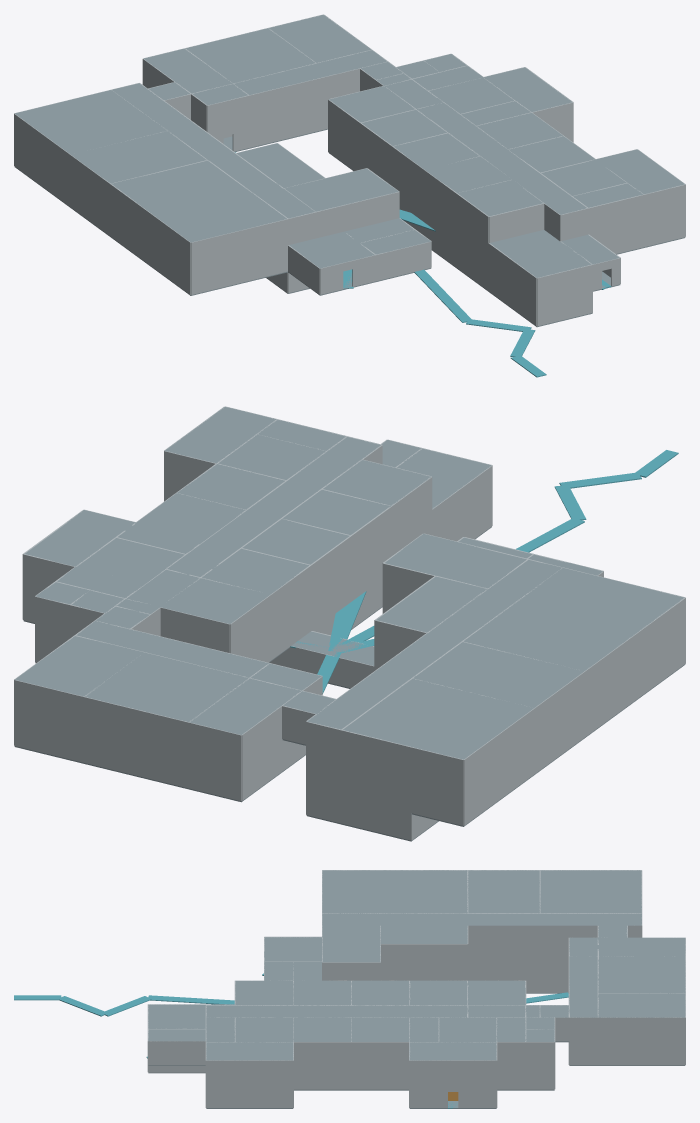
Rendered from furnished.glb.
3 views of the same model, one above another, from view 1: azimuth 30°, elevation 25°; view 2: azimuth 150°, elevation 25°; view 3: azimuth 270°, elevation 25° (orthographic). The views are drawn at different scales.
Visible parts, largest first — view 1: Ceiling cap lecture, Ceiling cap project, Wall lecture S, Ceiling cap upper-teaching, Wall lecture W, Ceiling cap upper-stacks, Ceiling cap upper-res-hall, Ceiling cap upper-seminar, Wall bridge-lobby S, Ceiling cap tutorial, Ceiling cap upper-reading, Ceiling cap res-cellar-stair (+58 smaller); view 2: Ceiling cap lecture, Ceiling cap project, Ceiling cap upper-teaching, Wall lecture W, Ceiling cap upper-stacks, Ceiling cap upper-res-hall, Ceiling cap upper-seminar, Wall project N, Ceiling cap upper-reading, Ceiling cap tutorial, Wall upper-stacks N, Ceiling cap bridge-lobby (+65 smaller); view 3: Ceiling cap lecture, Ceiling cap project, Ceiling cap upper-teaching, Ceiling cap upper-res-hall, Ceiling cap upper-stacks, Ceiling cap upper-seminar, Wall upper-teaching E.001, Wall teaching-hall E, Ceiling cap tutorial, Wall upper-reading E, Wall upper-south-stair E, Wall upper-north-stair E (+49 smaller).
Boxes of the visible parts, x1,y1,x2,y2 form: Ceiling cap lecture: [111, 160, 286, 242]; Ceiling cap project: [15, 90, 166, 154]; Wall lecture S: [191, 218, 288, 294]; Ceiling cap upper-teaching: [112, 83, 314, 218]; Wall lecture W: [110, 184, 190, 294]; Ceiling cap upper-stacks: [186, 28, 315, 83]; Ceiling cap upper-res-hall: [417, 102, 586, 214]; Ceiling cap upper-seminar: [71, 131, 206, 183]; Wall bridge-lobby S: [249, 66, 368, 121]; Ceiling cap tutorial: [284, 168, 398, 211]; Ceiling cap upper-reading: [269, 15, 370, 62]; Ceiling cap res-cellar-stair: [490, 230, 591, 277]; Ceiling cap lecture: [463, 568, 684, 671]; Ceiling cap project: [343, 678, 533, 759]; Ceiling cap upper-teaching: [307, 559, 562, 729]; Wall lecture W: [585, 597, 685, 736]; Ceiling cap upper-stacks: [85, 652, 248, 721]; Ceiling cap upper-res-hall: [167, 437, 380, 576]; Ceiling cap upper-seminar: [413, 642, 583, 707]; Wall project N: [341, 730, 463, 792]; Ceiling cap upper-reading: [15, 636, 144, 696]; Ceiling cap tutorial: [385, 533, 526, 588]; Wall upper-stacks N: [84, 697, 188, 755]; Ceiling cap bridge-lobby: [76, 621, 268, 677]; Ceiling cap lecture: [322, 870, 467, 913]; Ceiling cap project: [540, 870, 641, 912]; Ceiling cap upper-teaching: [322, 913, 641, 925]; Ceiling cap upper-res-hall: [206, 1005, 467, 1017]; Ceiling cap upper-stacks: [598, 956, 685, 992]; Ceiling cap upper-seminar: [467, 870, 539, 912]; Wall upper-teaching E.001: [468, 925, 597, 949]; Wall teaching-hall E: [468, 949, 568, 972]; Ceiling cap tutorial: [322, 925, 380, 962]; Wall upper-reading E: [598, 1017, 685, 1041]; Wall upper-south-stair E: [206, 1060, 293, 1084]; Wall upper-north-stair E: [409, 1060, 496, 1084].
Bounding box in the file's own units: 62.16 × 10.36 × 92.58.
